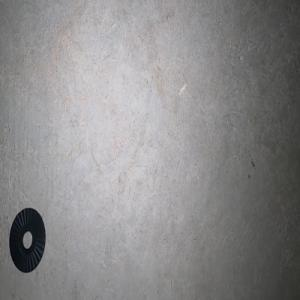Washer: (9, 207, 45, 272)
